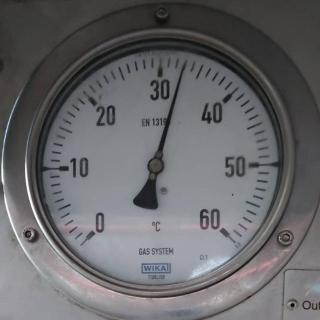gauge: (0, 0, 320, 320), (74, 209, 114, 251), (205, 215, 238, 245), (147, 156, 165, 175), (179, 56, 191, 72)
